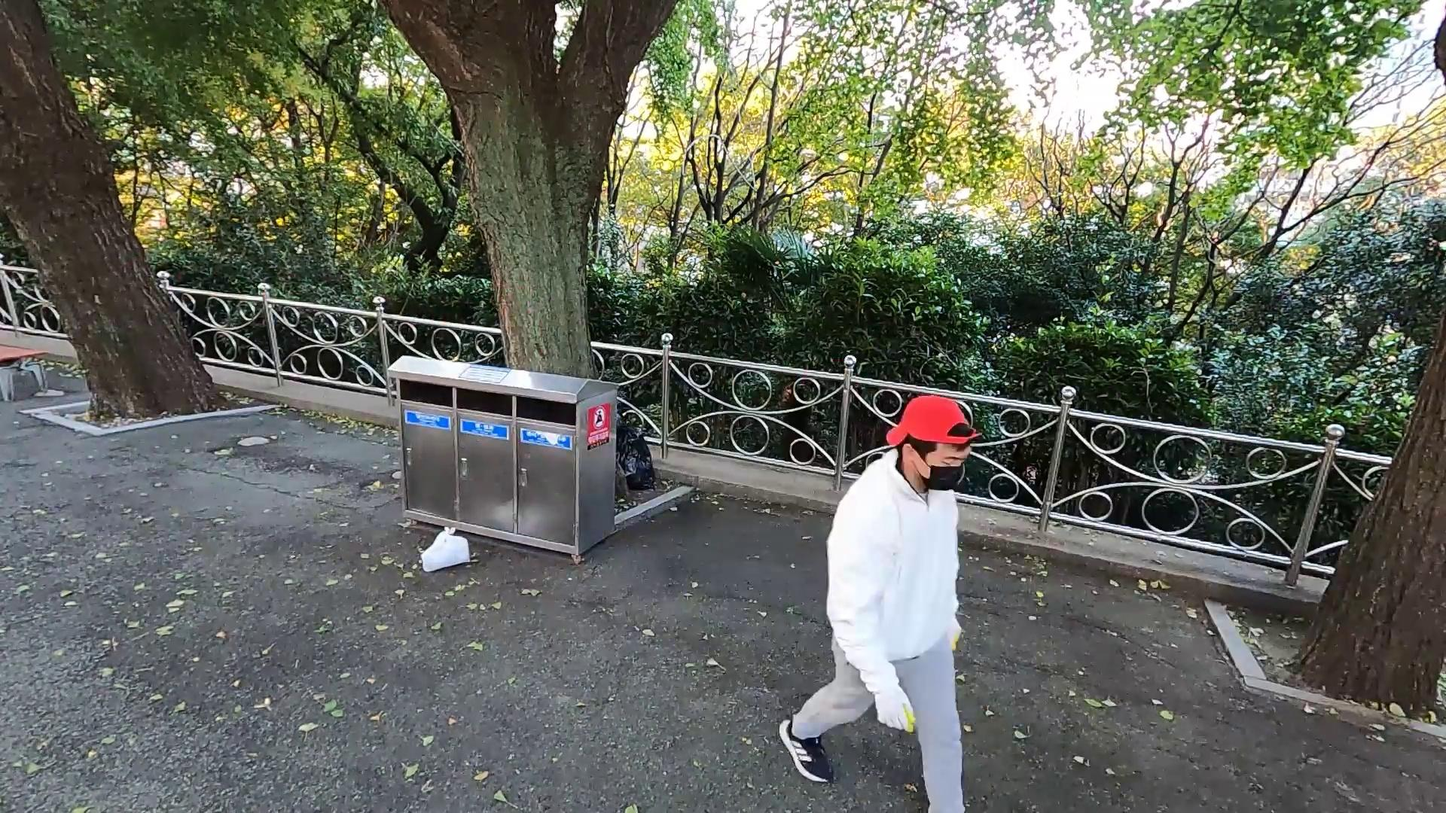person: (781, 391, 987, 813)
trash: (616, 411, 659, 493), (421, 525, 472, 576)
